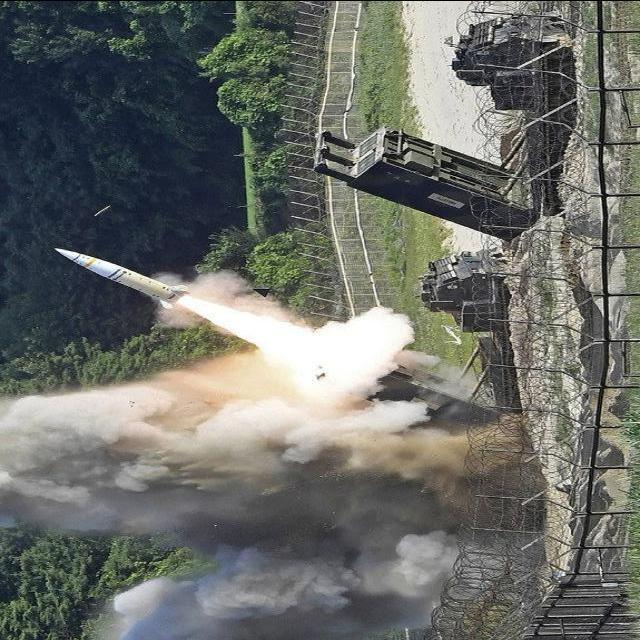missile: (49, 237, 190, 314)
